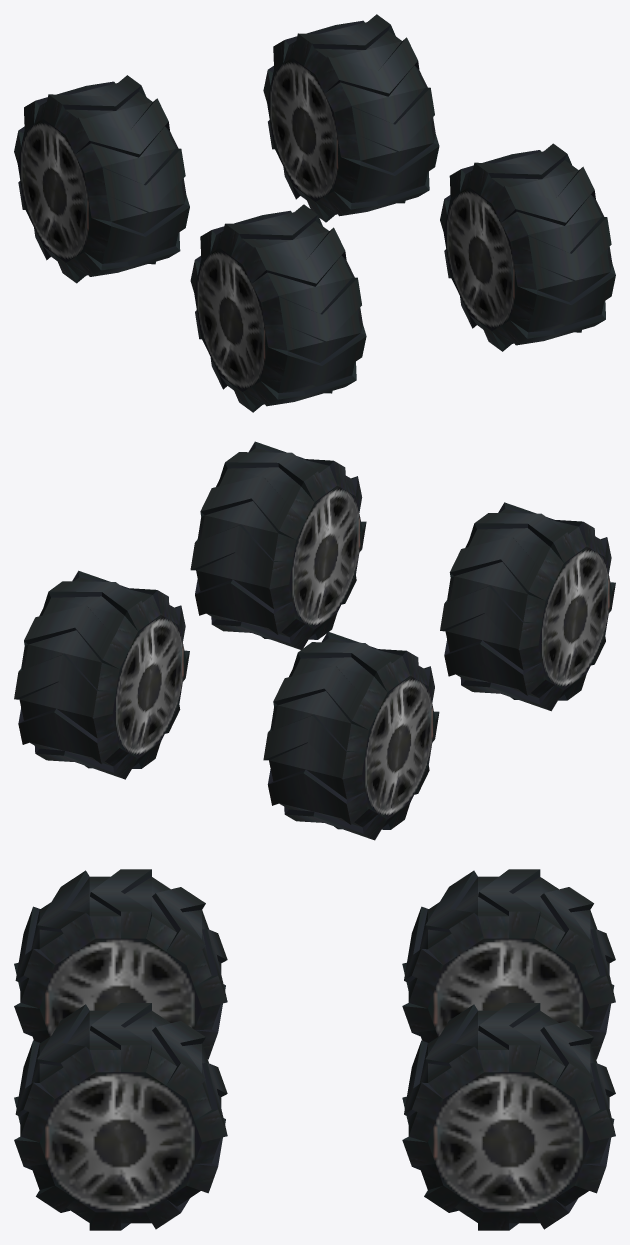
The model's file is Truck 0 Wheels.glb.
The picture shows the model from 3 angles, top to bottom: view 1: azimuth 30°, elevation 25°; view 2: azimuth 150°, elevation 25°; view 3: azimuth 270°, elevation 25°; orthographic projection. The views are drawn at different scales.
Parts seen in each view (by area): view 1: front_wheel 2, left_wheel, front_wheel 1, right_wheel; view 2: right_wheel, front_wheel 1, left_wheel, front_wheel 2; view 3: left_wheel, front_wheel 1, right_wheel, front_wheel 2.
Part boxes in pixels (<box>): front_wheel 2: <box>190,204,366,412</box>; left_wheel: <box>263,14,439,222</box>; front_wheel 1: <box>440,143,615,351</box>; right_wheel: <box>14,75,189,283</box>; right_wheel: <box>263,631,439,840</box>; front_wheel 1: <box>190,441,366,649</box>; left_wheel: <box>14,570,189,779</box>; front_wheel 2: <box>440,502,615,711</box>; left_wheel: <box>402,1003,615,1230</box>; front_wheel 1: <box>14,1003,227,1230</box>; right_wheel: <box>402,869,615,1059</box>; front_wheel 2: <box>14,869,227,1059</box>.
Size of the model in its own units: 3.1 by 1.45 by 4.27.
1 material, 1 textured.
